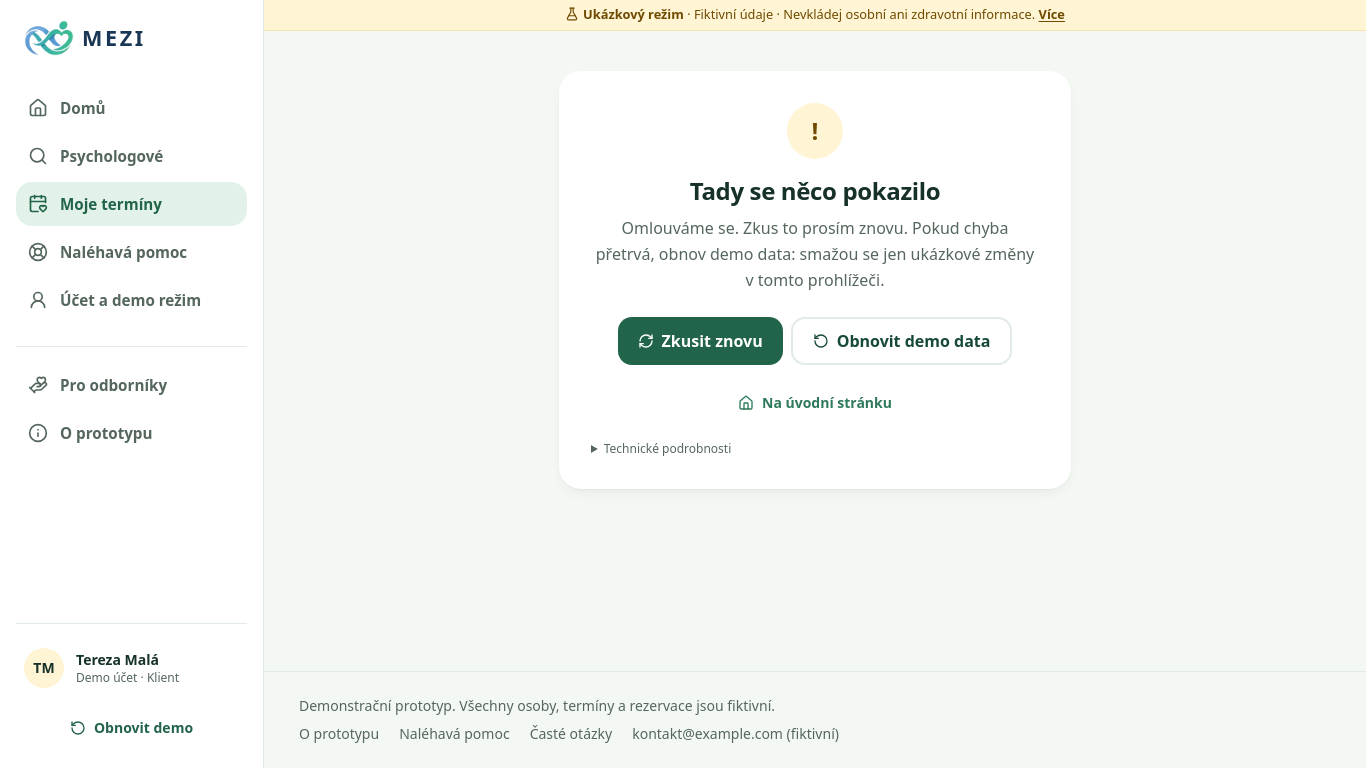
Scenario: průchody aplikací › chyba při vykreslení stránky ukáže chybovou obrazovku místo prázdné stránky
The image size is (1366, 768).
Expected: the heading "Tady se něco pokazilo" is shown, [690,174,940,207]
Expected: the navigation bar named "Hlavní navigace" is shown, [16,86,247,607]
Click the link "Psychologové". click: (96, 156)
box: [28,146,163,166]
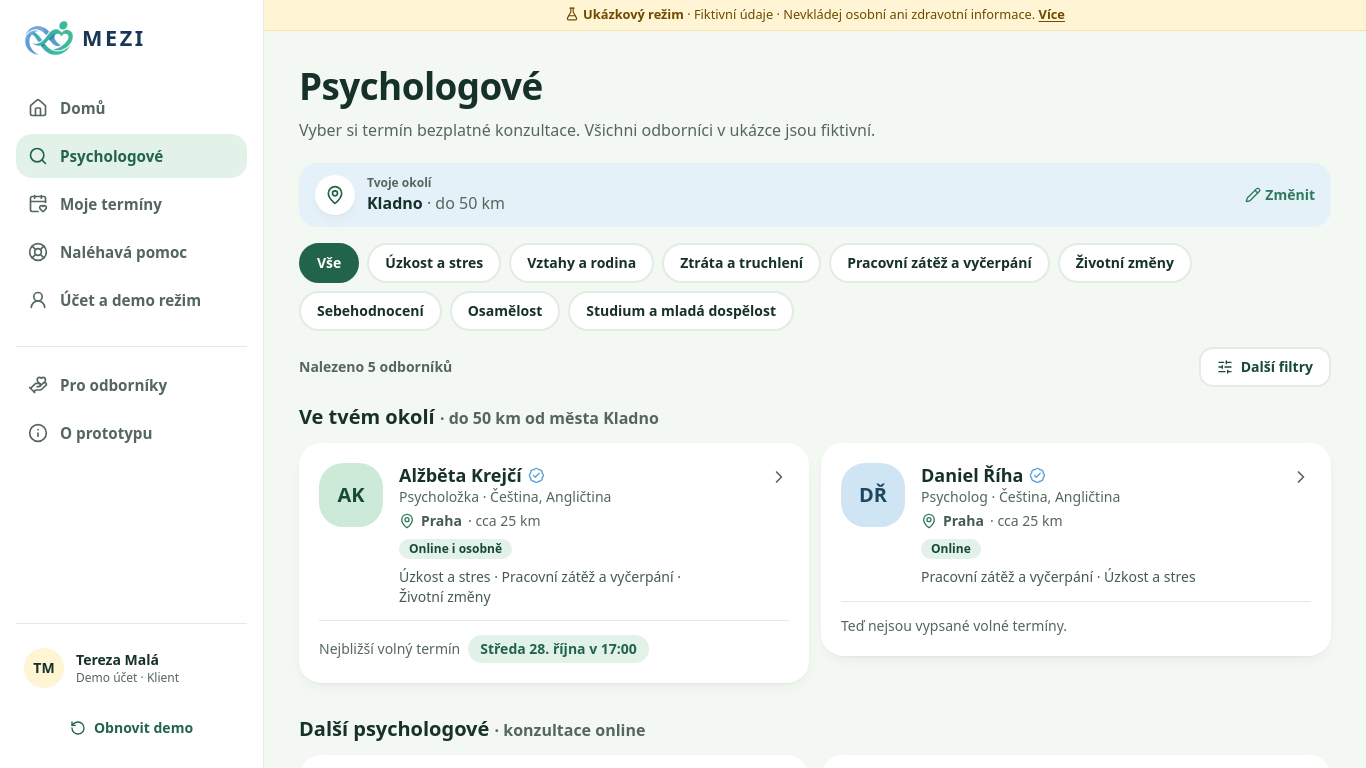
Result: the heading "Psychologové" is shown at [299,61,543,111]
Result: the heading "Tady se něco pokazilo" is gone
